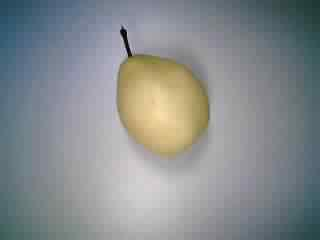pear: (100, 23, 217, 161)
